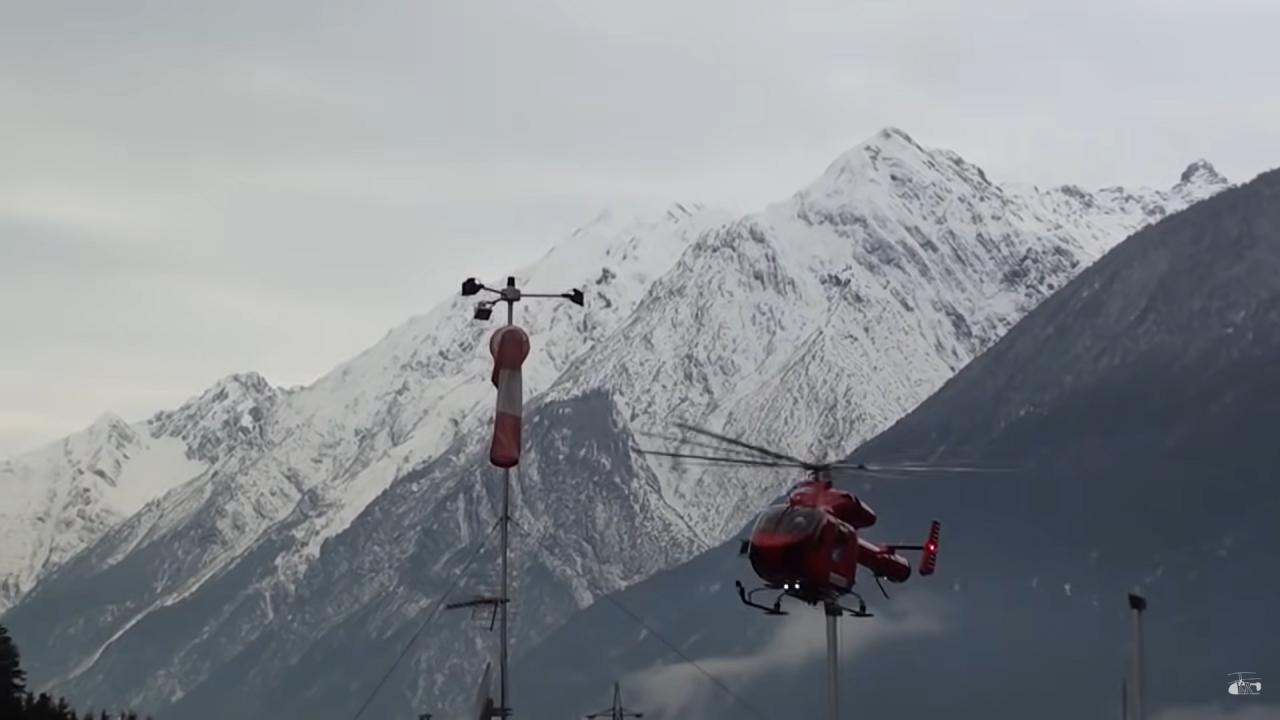Helicopter: (616, 408, 1032, 630)
